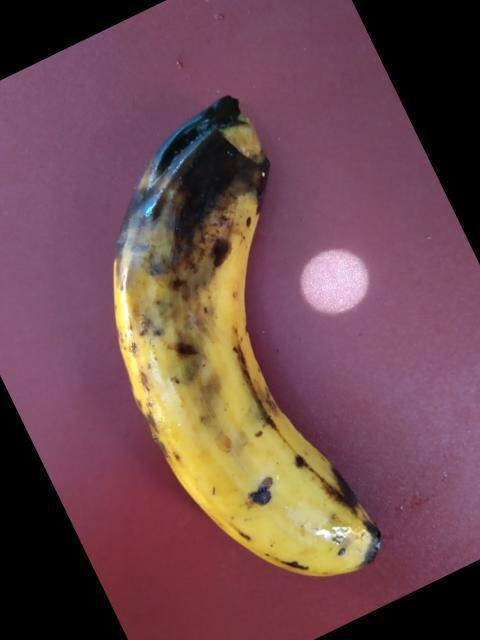rotten: (81, 92, 406, 588)
